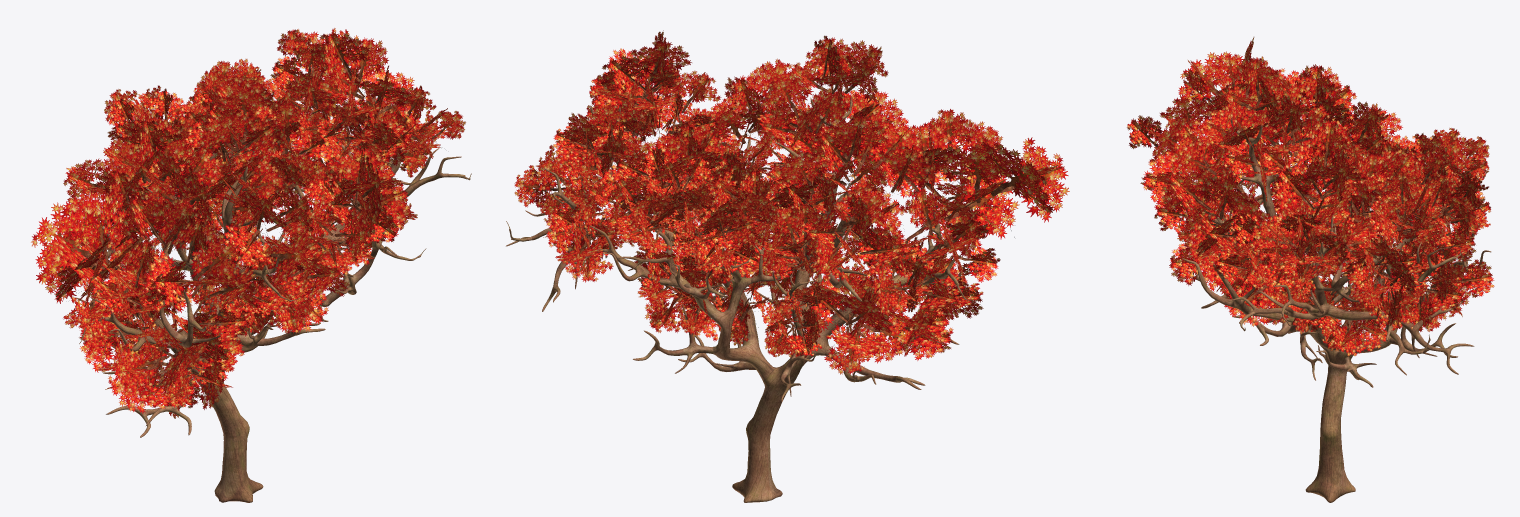
Rendered from acero.fbx.
3 renders of one model, left to right at view 1: azimuth 30°, elevation 25°; view 2: azimuth 150°, elevation 25°; view 3: azimuth 270°, elevation 25°, orthographic. The views are drawn at different scales.
Visible parts, largest first — view 1: japanese_maple_leaves_3_0, japanese_maple_tree_2_1; view 2: japanese_maple_leaves_3_0, japanese_maple_tree_2_1; view 3: japanese_maple_leaves_3_0, japanese_maple_tree_2_1.
Boxes of the visible parts, <box> form: japanese_maple_leaves_3_0: <box>31,28,465,418</box>; japanese_maple_tree_2_1: <box>75,96,471,502</box>; japanese_maple_leaves_3_0: <box>514,30,1069,374</box>; japanese_maple_tree_2_1: <box>506,96,973,502</box>; japanese_maple_leaves_3_0: <box>1127,37,1494,356</box>; japanese_maple_tree_2_1: <box>1180,117,1491,502</box>.
Bounding box in the file's own units: 331 × 295 × 242.
1 material, 1 textured.
